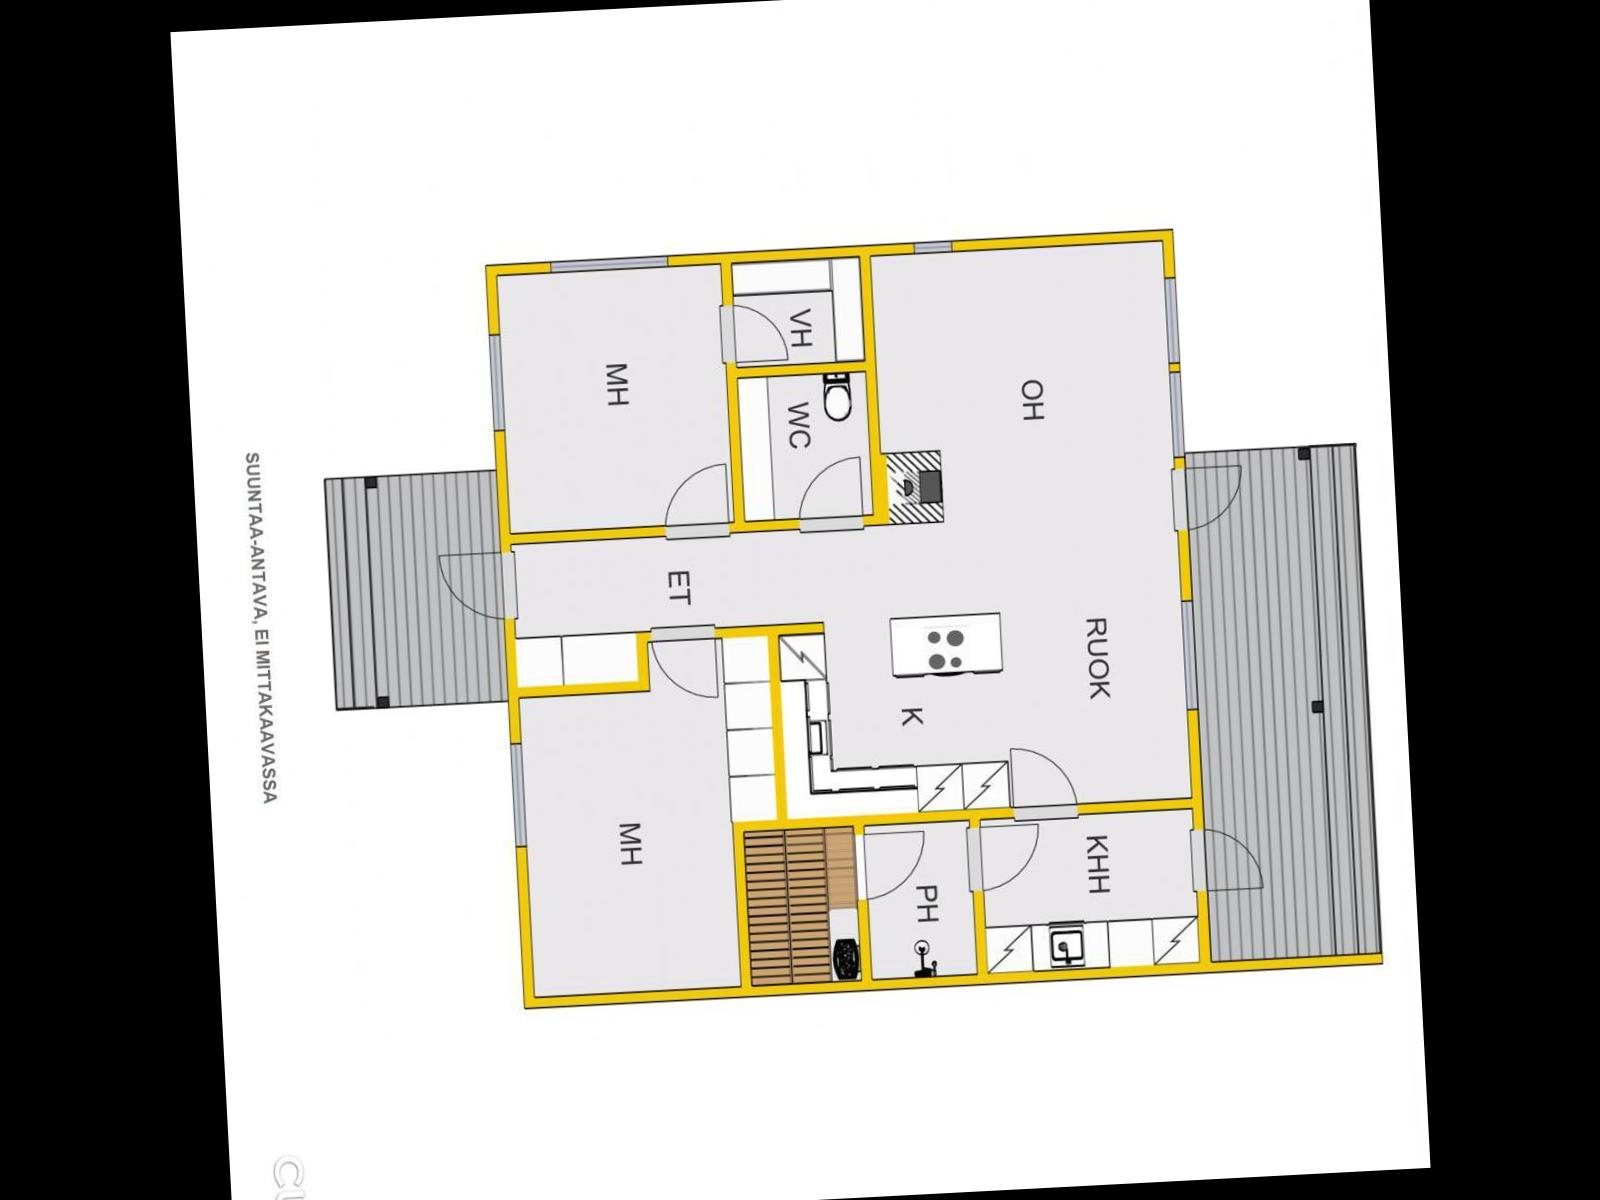door: (436, 547, 527, 639), (1164, 456, 1251, 541), (646, 616, 724, 708), (794, 449, 871, 539), (959, 818, 1046, 897), (844, 829, 934, 906), (1009, 739, 1083, 824), (1186, 824, 1267, 899), (658, 459, 732, 541), (712, 297, 790, 367)
window: (537, 246, 680, 281), (499, 725, 533, 860), (1173, 587, 1204, 717), (1155, 262, 1189, 371), (1159, 364, 1192, 465), (484, 323, 510, 441), (901, 234, 964, 262)
